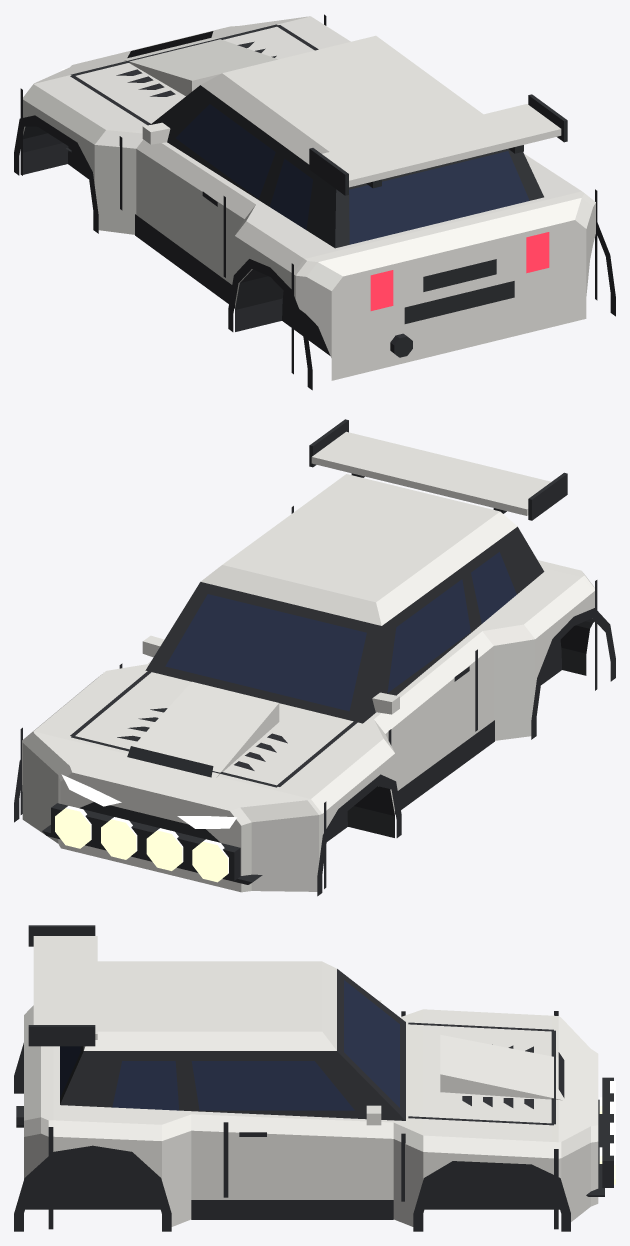
File: Lynx.glb
3 views of the same model, one above another, from view 1: azimuth 30°, elevation 25°; view 2: azimuth 150°, elevation 25°; view 3: azimuth 270°, elevation 25° (orthographic). The views are drawn at different scales.
Visible parts, largest first — view 1: BumperRear, Roof, Door_FL, RearWindow, Opt_Wing_Rally_WingBlade, Hood, Pillars, Fender_FL, Window_FL, Cowl, Opt_Hood_Scoop_HoodScoop, Underbody (+16 smaller); view 2: Roof, BumperFront, Hood, Windshield, Pillars, Fender_RL, Opt_Wing_Rally_WingBlade, Opt_Hood_Scoop_HoodScoop, Door_FL, Opt_Bumper_Lamps_RallyLamp, Window_FL, Cowl (+14 smaller); view 3: Roof, Door_FR, Hood, Pillars, WheelWell, Fender_RR, Window_FR, BumperFront, Opt_Hood_Scoop_HoodScoop, Opt_Wing_Rally_WingBlade, Fender_FR, Windshield (+14 smaller).
Part boxes in pixels (left/top/right/bottom): BumperRear: left=295, top=193, right=595, bottom=380; Roof: left=201, top=35, right=483, bottom=164; Door_FL: left=119, top=132, right=238, bottom=280; RearWindow: left=349, top=151, right=529, bottom=244; Opt_Wing_Rally_WingBlade: left=322, top=104, right=561, bottom=187; Hood: left=34, top=16, right=350, bottom=132; Pillars: left=150, top=85, right=543, bottom=248; Fender_FL: left=23, top=84, right=129, bottom=232; Window_FL: left=175, top=104, right=275, bottom=198; Cowl: left=131, top=129, right=581, bottom=258; Opt_Hood_Scoop_HoodScoop: left=124, top=37, right=277, bottom=95; Underbody: left=23, top=126, right=283, bottom=331; Roof: left=200, top=474, right=517, bottom=625; BumperFront: left=22, top=731, right=322, bottom=892; Hood: left=34, top=667, right=383, bottom=798; Windshield: left=165, top=594, right=366, bottom=711; Pillars: left=145, top=526, right=544, bottom=723; Fender_RL: left=465, top=575, right=594, bottom=740; Opt_Wing_Rally_WingBlade: left=311, top=431, right=551, bottom=515; Opt_Hood_Scoop_HoodScoop: left=124, top=681, right=279, bottom=778; Door_FL: left=374, top=645, right=476, bottom=790; Opt_Bumper_Lamps_RallyLamp: left=55, top=806, right=228, bottom=882; Window_FL: left=387, top=579, right=470, bottom=692; Cowl: left=131, top=567, right=581, bottom=727; Roof: left=83, top=961, right=336, bottom=1050; Door_FR: left=223, top=1115, right=405, bottom=1223; Hood: left=406, top=1009, right=558, bottom=1142; Pillars: left=60, top=969, right=405, bottom=1120; WheelWell: left=25, top=1154, right=559, bottom=1209; Fender_RR: left=48, top=1114, right=223, bottom=1226; Window_FR: left=191, top=1061, right=354, bottom=1110; BumperFront: left=558, top=1016, right=598, bottom=1221; Opt_Hood_Scoop_HoodScoop: left=440, top=1034, right=563, bottom=1100; Opt_Wing_Rally_WingBlade: left=33, top=936, right=97, bottom=1039; Fender_FR: left=406, top=1128, right=558, bottom=1226; Windshield: left=344, top=980, right=399, bottom=1107.
Size of the model in its own units: 6.62 by 4.18 by 12.21.
